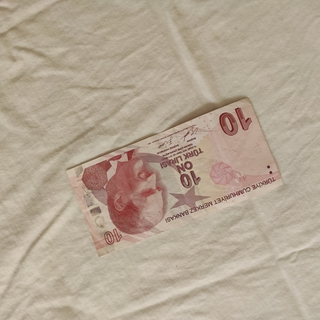10TLFront: (64, 95, 287, 259)
